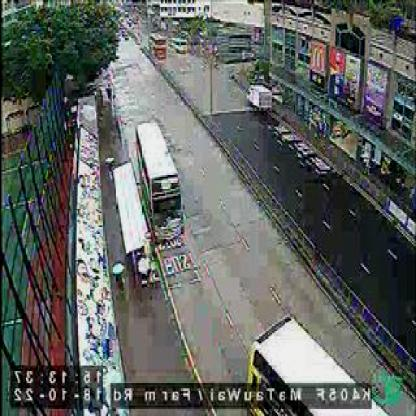Bus: (241, 318, 387, 414), (134, 121, 185, 243), (147, 32, 165, 59), (173, 37, 189, 55)
Truck: (247, 83, 273, 113)
